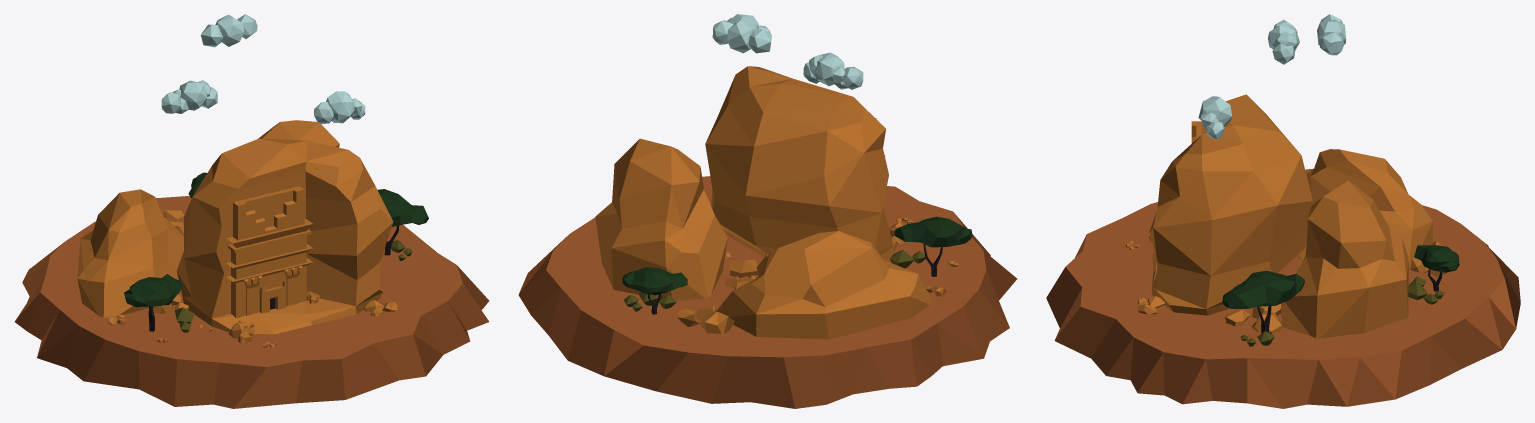
Rendered from madain_saleh.dae.
The picture shows the model from 3 angles, left to right: view 1: azimuth 30°, elevation 25°; view 2: azimuth 150°, elevation 25°; view 3: azimuth 270°, elevation 25°; orthographic projection. The views are drawn at different scales.
Parts seen in each view (by area): view 1: Madain_Saleh1_polySurface3045, Madain_Saleh1_polySurface3047, Madain_Saleh1_polySurface3052, Madain_Saleh1_polySurface3049, Madain_Saleh1_pSphere45, polySurface4, polySurface19, Madain_Saleh1_polySurface3046, polySurface13, Madain_Saleh1_pSphere48; view 2: Madain_Saleh1_polySurface3045, Madain_Saleh1_polySurface3047, Madain_Saleh1_polySurface3052, Madain_Saleh1_polySurface3046, Madain_Saleh1_pSphere45, polySurface4, polySurface19, Madain_Saleh1_pSphere48_ncl1_1, Madain_Saleh1_pSphere76, Madain_Saleh1_pSphere72; view 3: Madain_Saleh1_polySurface3045, Madain_Saleh1_polySurface3047, Madain_Saleh1_polySurface3046, Madain_Saleh1_polySurface3052, Madain_Saleh1_pSphere48, polySurface13, polySurface4, Madain_Saleh1_pSphere48_ncl1_1, polySurface19.
Boxes of the visible parts, x1=… form: Madain_Saleh1_polySurface3045: x1=14, y1=196, x2=489, y2=408; Madain_Saleh1_polySurface3047: x1=176, y1=138, x2=393, y2=334; Madain_Saleh1_polySurface3052: x1=77, y1=189, x2=183, y2=317; Madain_Saleh1_polySurface3049: x1=226, y1=186, x2=313, y2=318; Madain_Saleh1_pSphere45: x1=124, y1=274, x2=182, y2=307; polySurface4: x1=161, y1=80, x2=217, y2=113; polySurface19: x1=201, y1=14, x2=257, y2=47; Madain_Saleh1_polySurface3046: x1=258, y1=120, x2=339, y2=147; polySurface13: x1=314, y1=91, x2=365, y2=124; Madain_Saleh1_pSphere48: x1=377, y1=189, x2=428, y2=226; Madain_Saleh1_polySurface3045: x1=518, y1=176, x2=1017, y2=408; Madain_Saleh1_polySurface3047: x1=705, y1=66, x2=898, y2=260; Madain_Saleh1_polySurface3052: x1=716, y1=231, x2=931, y2=339; Madain_Saleh1_polySurface3046: x1=595, y1=138, x2=727, y2=300; Madain_Saleh1_pSphere45: x1=894, y1=216, x2=972, y2=247; polySurface4: x1=803, y1=52, x2=863, y2=89; polySurface19: x1=712, y1=19, x2=771, y2=53; Madain_Saleh1_pSphere48_ncl1_1: x1=622, y1=267, x2=687, y2=295; Madain_Saleh1_pSphere76: x1=700, y1=311, x2=734, y2=333; Madain_Saleh1_pSphere72: x1=729, y1=259, x2=758, y2=277; Madain_Saleh1_polySurface3045: x1=1046, y1=202, x2=1520, y2=408; Madain_Saleh1_polySurface3047: x1=1149, y1=94, x2=1312, y2=315; Madain_Saleh1_polySurface3046: x1=1281, y1=180, x2=1408, y2=338; Madain_Saleh1_polySurface3052: x1=1305, y1=149, x2=1432, y2=268; Madain_Saleh1_pSphere48: x1=1222, y1=270, x2=1304, y2=308; polySurface13: x1=1198, y1=96, x2=1232, y2=139; polySurface4: x1=1268, y1=19, x2=1299, y2=64; Madain_Saleh1_pSphere48_ncl1_1: x1=1414, y1=245, x2=1459, y2=272; polySurface19: x1=1317, y1=14, x2=1346, y2=55.
Size of the model in its own units: 17.39 by 11.33 by 16.89.
